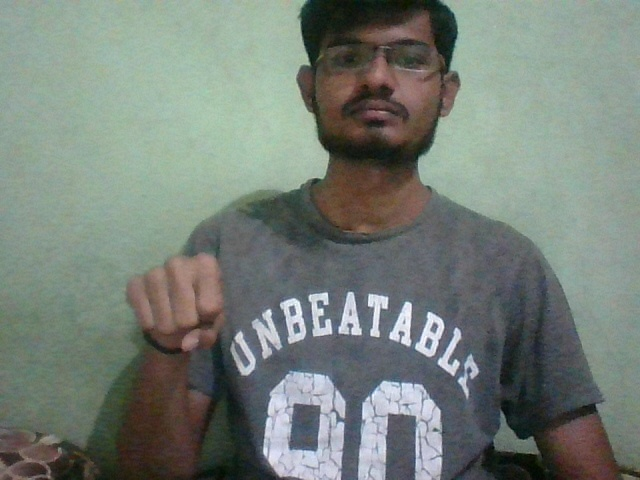yes: (98, 244, 258, 368)
